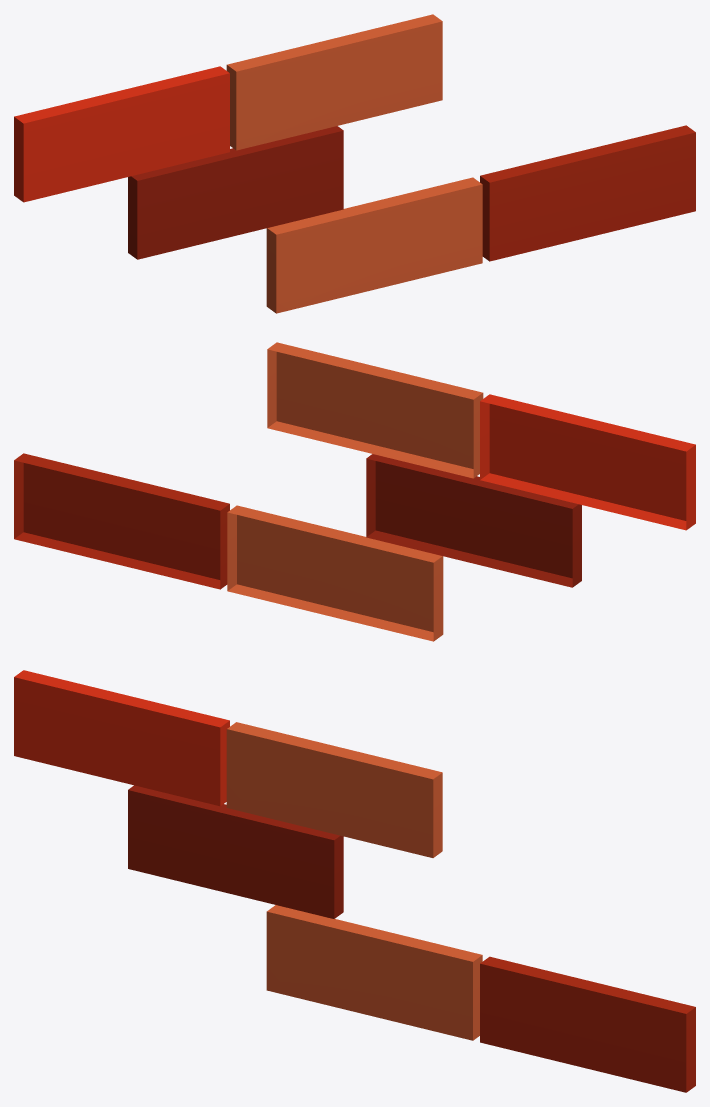
Rendered from Decor_Gach_03.fbx.
3 renders of one model, top to bottom at view 1: azimuth 30°, elevation 25°; view 2: azimuth 150°, elevation 25°; view 3: azimuth 330°, elevation 25°, orthographic.
Visible parts, largest first — view 1: Decor_Gach_03; view 2: Decor_Gach_03; view 3: Decor_Gach_03.
Part boxes in pixels (<box>): Decor_Gach_03: <box>14,14,695,313</box>; Decor_Gach_03: <box>14,342,695,641</box>; Decor_Gach_03: <box>14,670,695,1092</box>.
Bounding box in the file's own units: 245 × 87.71 × 6.06.
